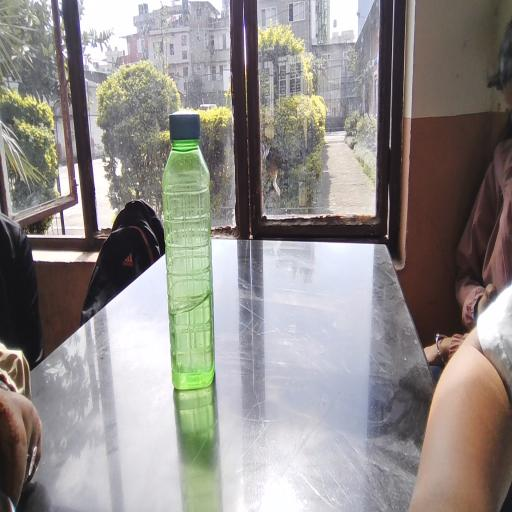Bottle: (155, 101, 239, 393)
